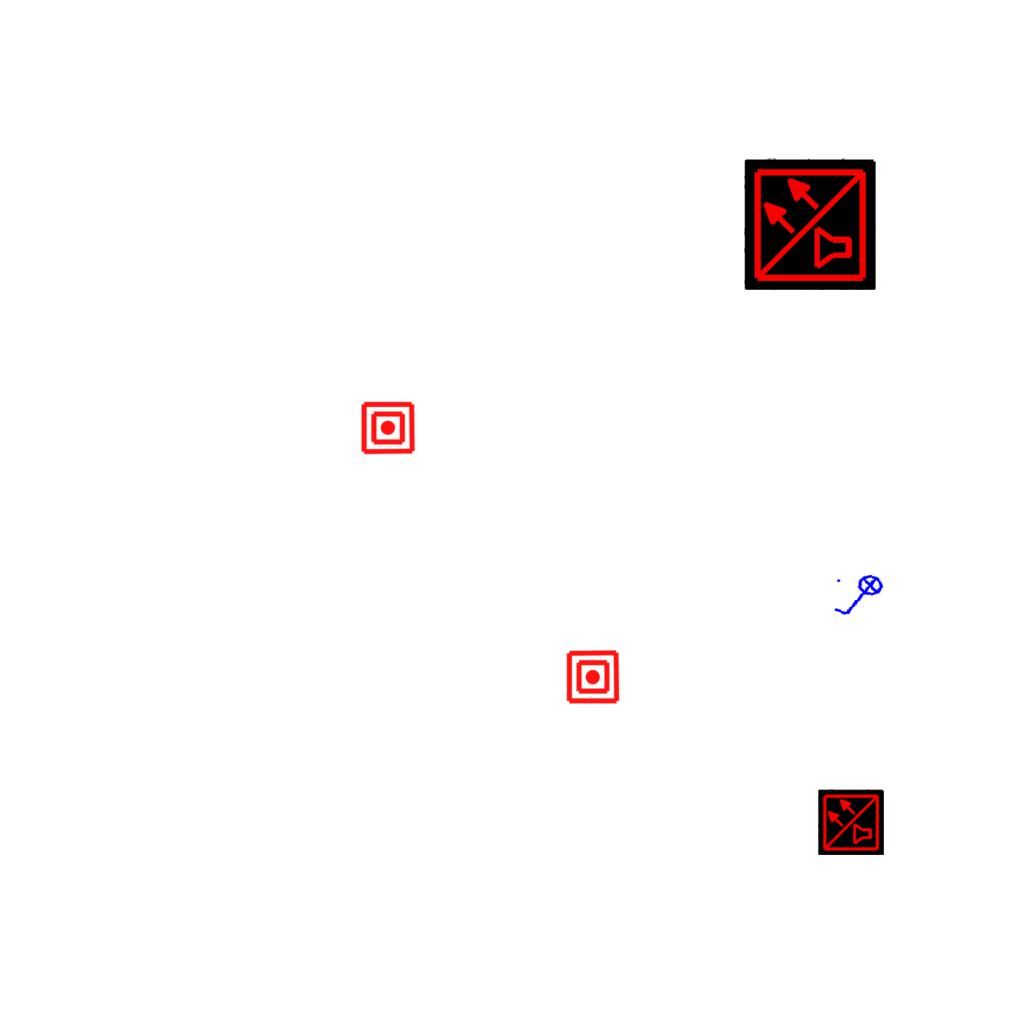Ausschalter_beleuchtet: (828, 569, 892, 625)
NAM-Nichtautomatischer_Melder: (565, 649, 621, 705), (360, 400, 416, 456)
OKW_Multisensormelder_(Kombination_optischer_Rauch-Kahlenmonoxid_Waerme-Melder): (744, 158, 876, 290), (818, 789, 884, 855)
